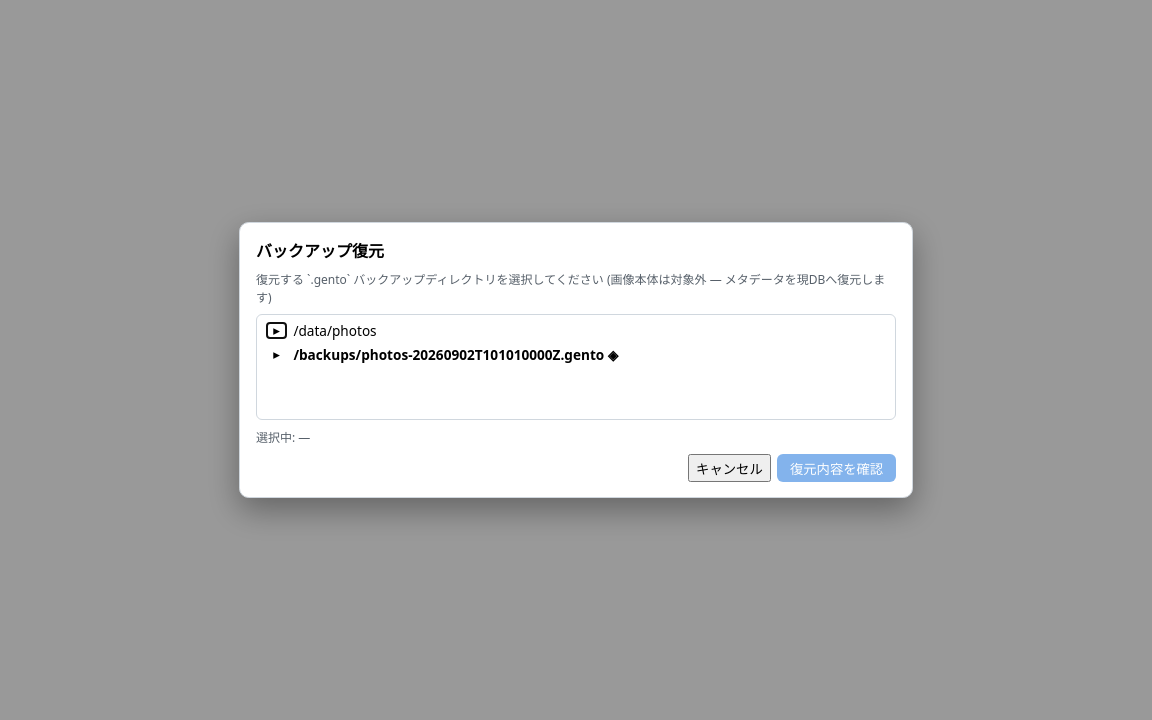
Test: RestoreDialog (コンポーネント描画) › plan表示に全分類 (変更なし/更新/追加/衝突/行方不明/曖昧) が現れる
Click the button with class "node-gento" at (590,354), box left=289, top=342, right=891, bottom=366
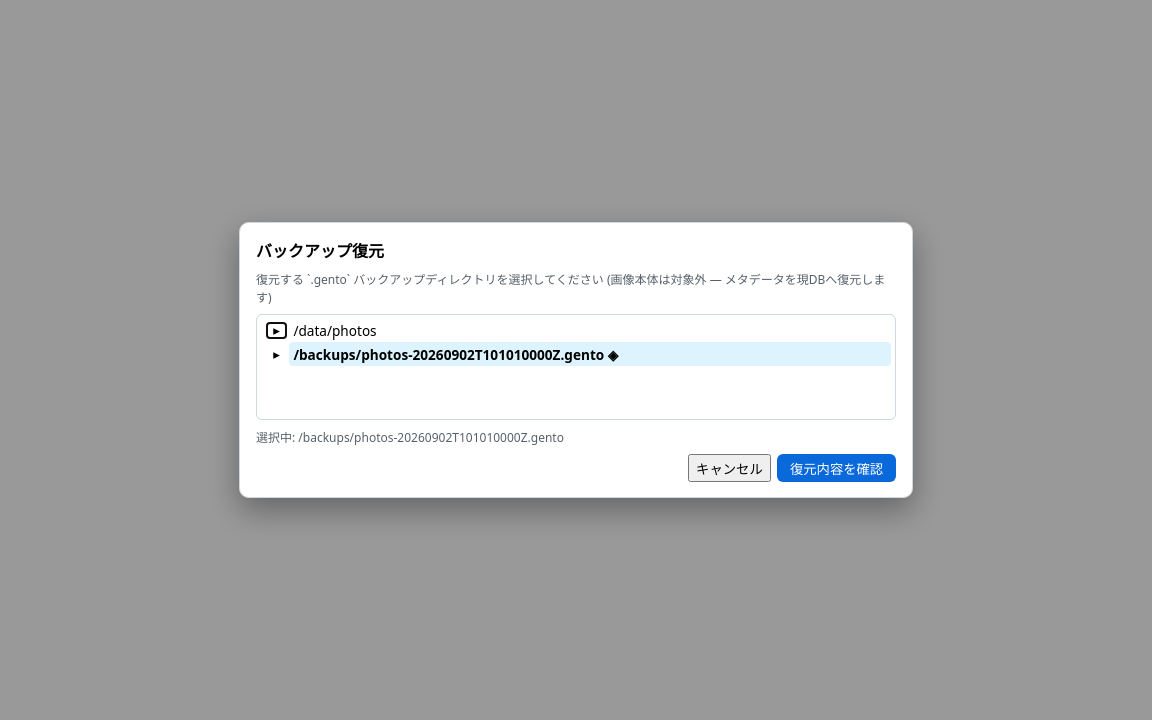
Result: the text with test id "restore-selected" shows "/backups/photos-20260902T101010000Z.gento" at left=256, top=429, right=564, bottom=446
Click the button with test id "restore-plan" at (837,468), box left=777, top=454, right=896, bottom=482
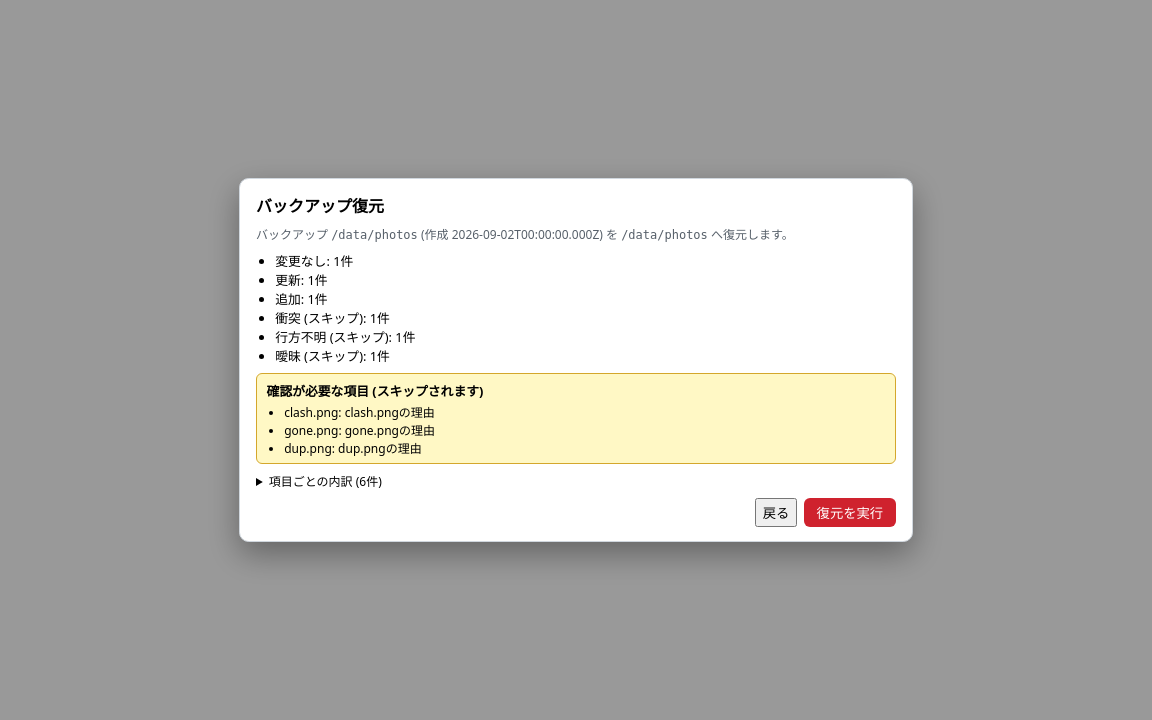
Result: the list with test id "restore-plan-summary" is shown at left=275, top=252, right=416, bottom=365
Result: the list with test id "restore-plan-summary" shows "変更なし: 1件" at left=275, top=252, right=353, bottom=270
Result: the list with test id "restore-plan-summary" shows "更新: 1件" at left=275, top=271, right=328, bottom=289
